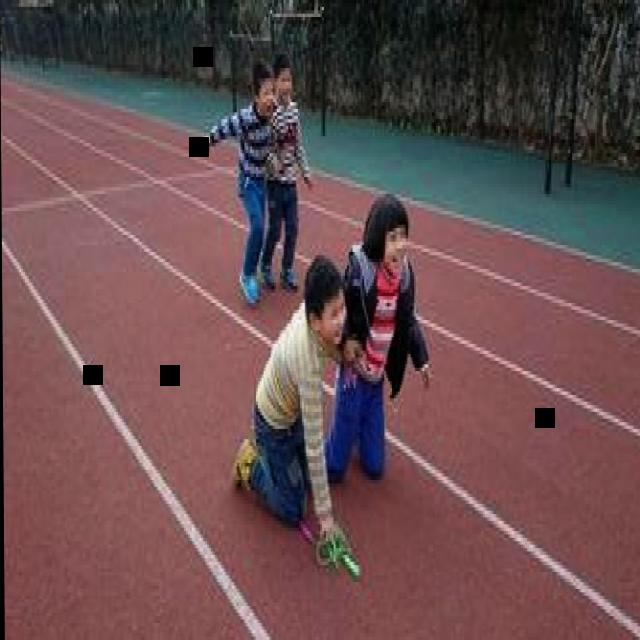Fall-Detected: (327, 170, 440, 490)
